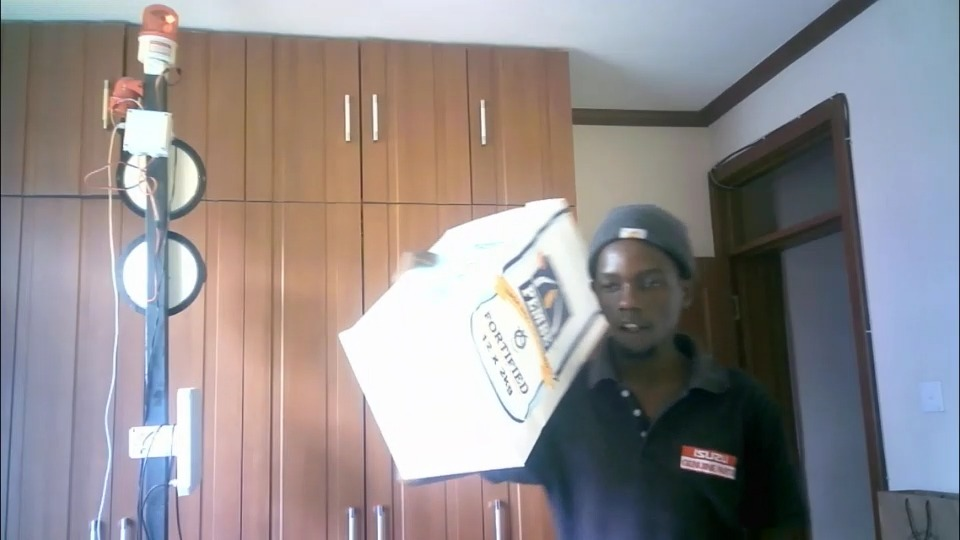wheat_flour_blue_label: (340, 199, 590, 477)
